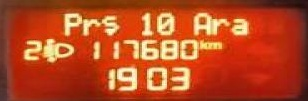0: (143, 64, 167, 90), (153, 10, 175, 35), (178, 36, 197, 60)
1: (137, 10, 153, 36), (105, 65, 113, 92), (88, 39, 98, 60), (108, 39, 118, 60)
2: (20, 36, 41, 60)
3: (168, 64, 190, 90)
6: (140, 38, 156, 59)
7: (120, 38, 138, 59)
8: (158, 37, 177, 60)
9: (113, 65, 137, 91)
X: (61, 10, 80, 35), (191, 11, 210, 35), (228, 16, 247, 35), (100, 14, 118, 34), (80, 16, 98, 35), (210, 16, 228, 33), (207, 39, 222, 49), (198, 38, 207, 49)
